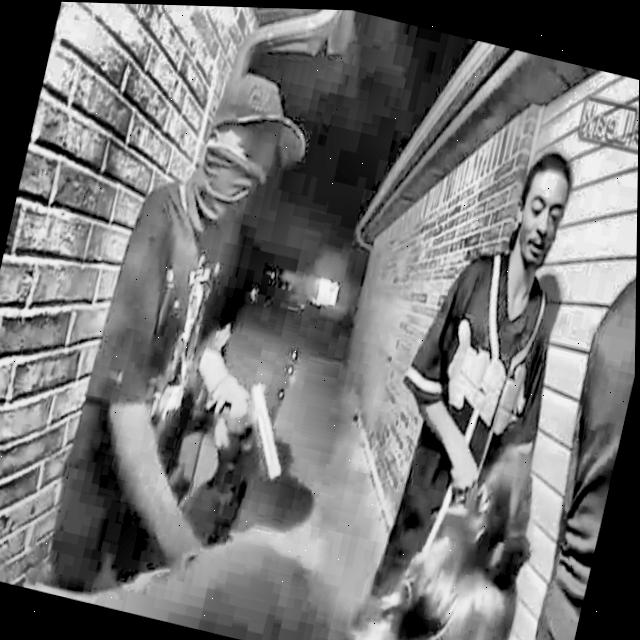pistol: (203, 376, 292, 493)
robbery: (0, 27, 640, 640)
